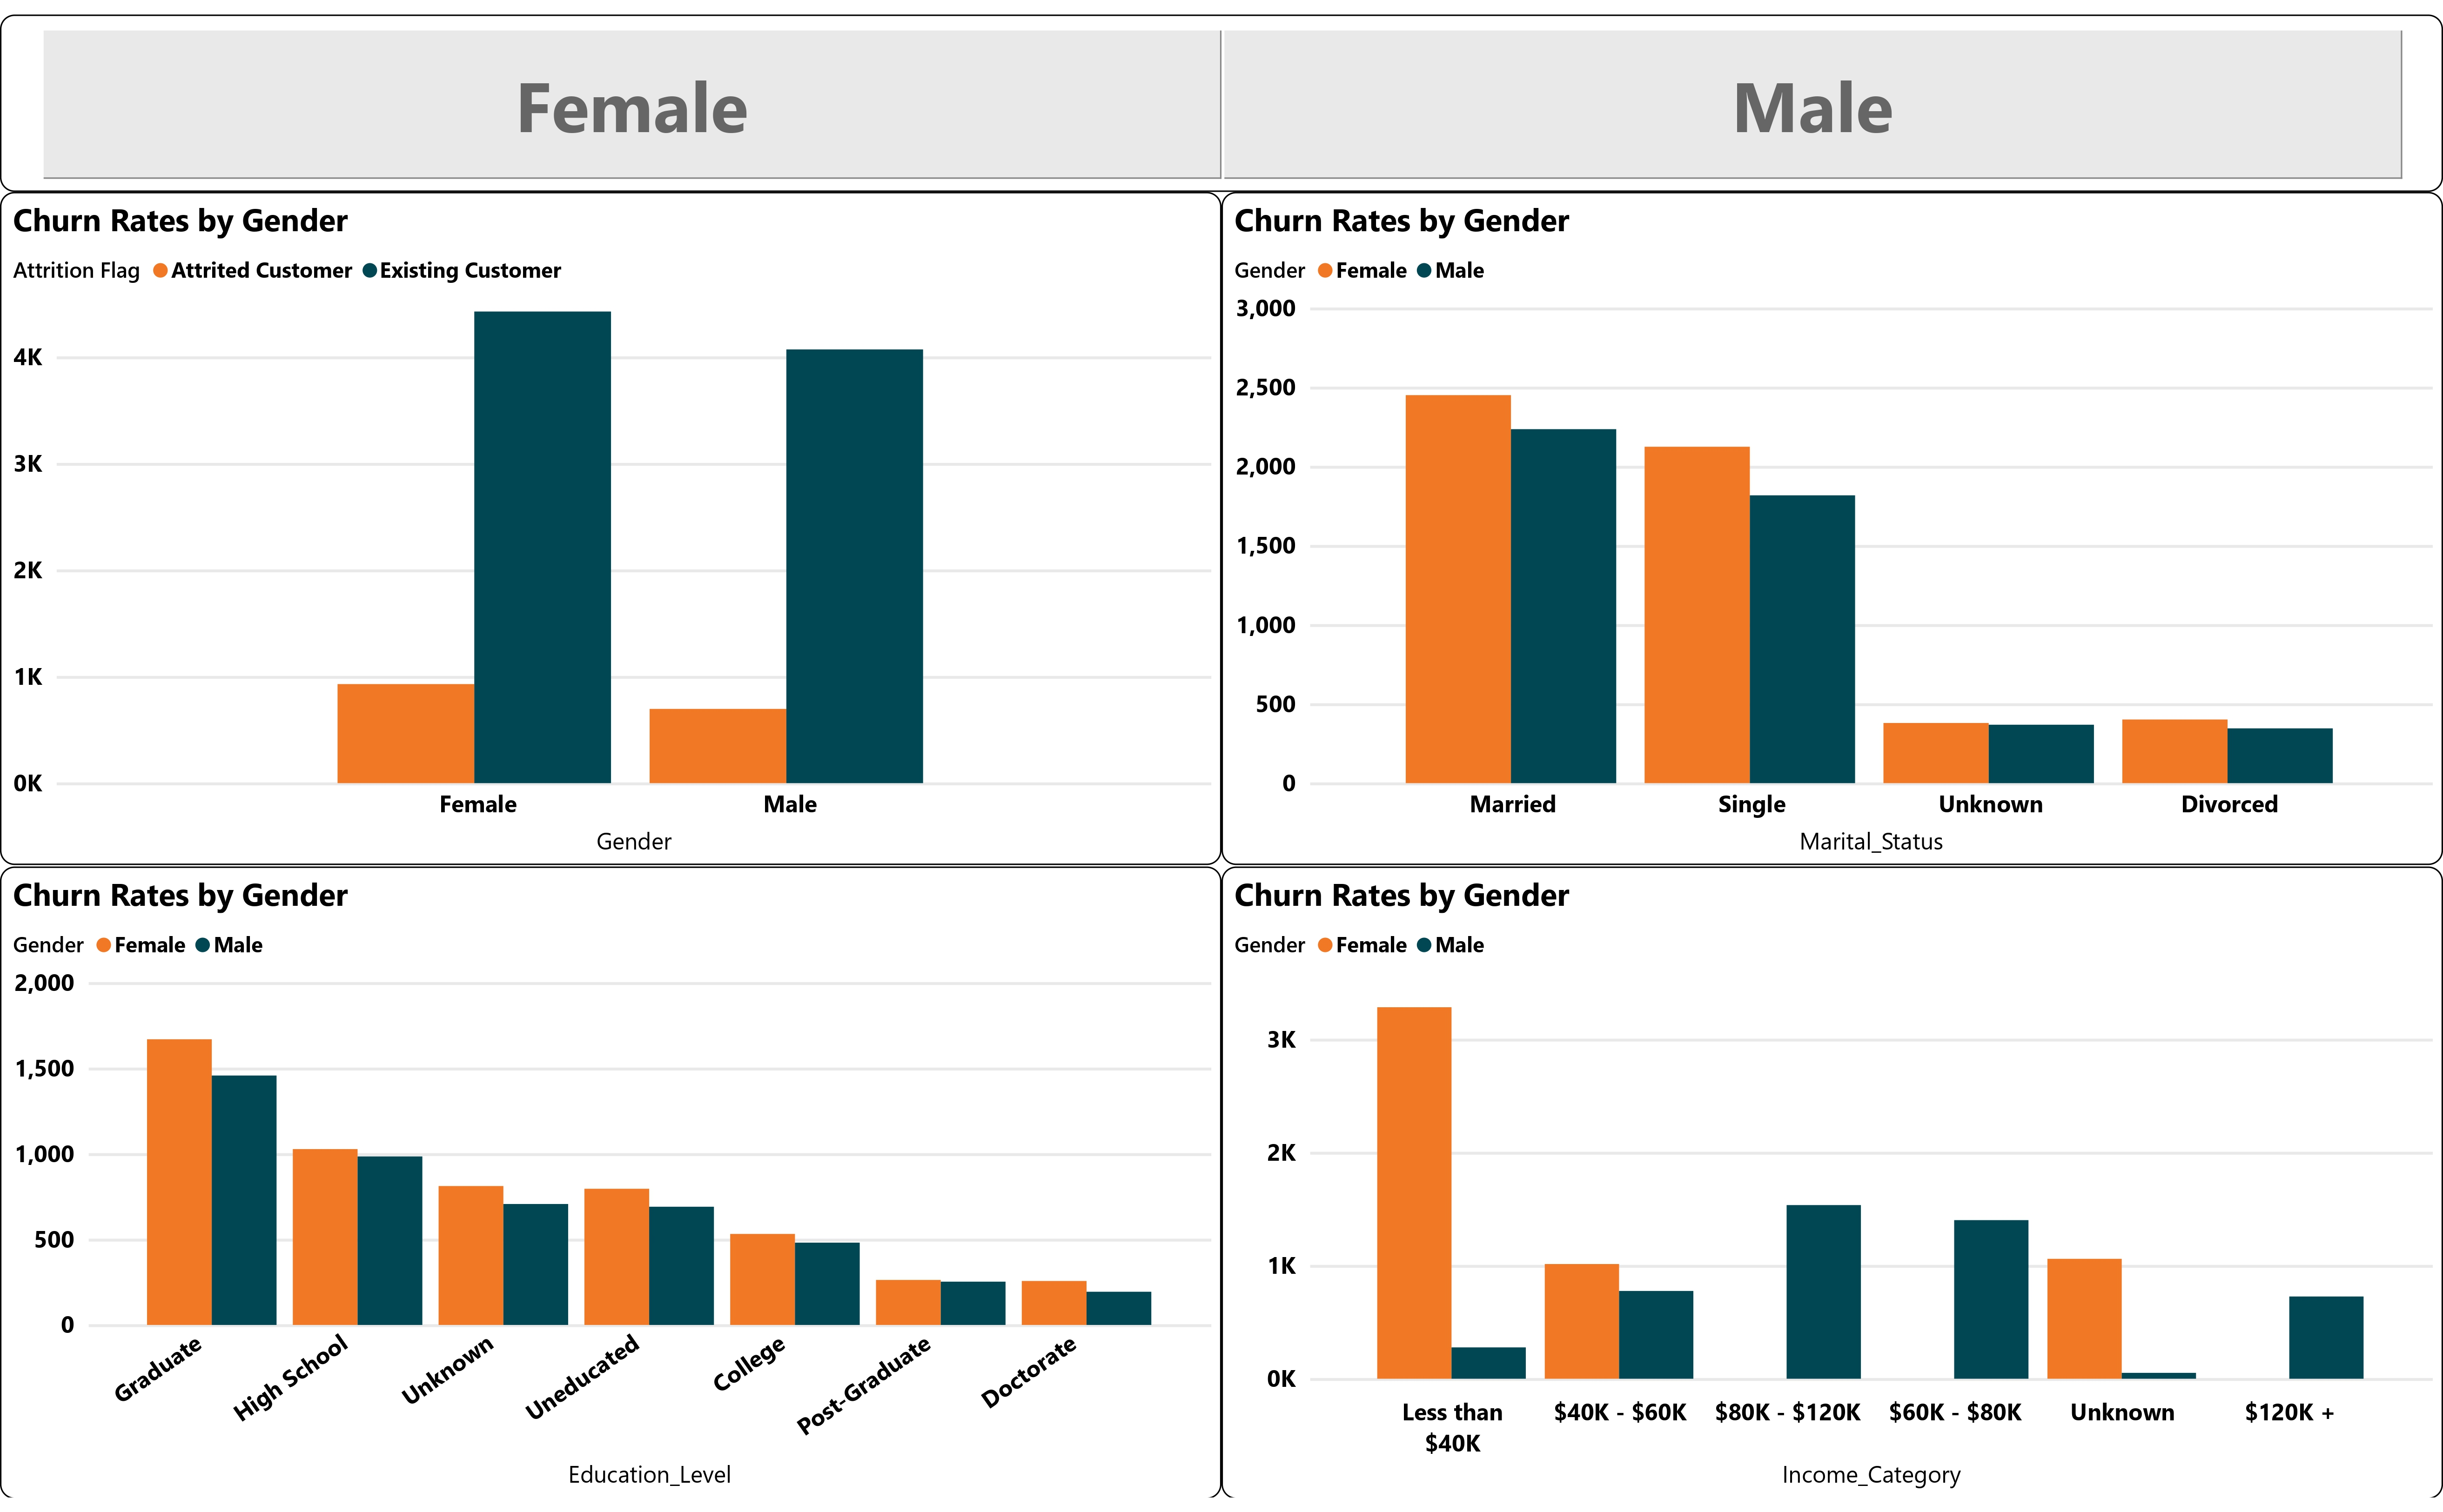

The page's visual inventory and layout, read from the dashboard file:
{"tool":"powerbi","page":{"name":"Dashboard_two","canvas":[1680,1020],"ordinal":1},"visuals":[{"type":"clusteredColumnChart","title":"Churn Rates by Gender","fields":{"Category":["BankChurners.Education_Level"],"Y":["CountNonNull(BankChurners.Gender)"],"Series":["BankChurners.Gender"]},"box":[0,585,840,435],"z":0},{"type":"clusteredColumnChart","title":"Churn Rates by Gender","fields":{"Y":["CountNonNull(BankChurners.Gender)"],"Category":["BankChurners.Marital_Status"],"Series":["BankChurners.Gender"]},"box":[840,121.7,840,463.3],"z":1000},{"type":"clusteredColumnChart","title":"Churn Rates by Gender","fields":{"Category":["BankChurners.Income_Category"],"Series":["BankChurners.Gender"],"Y":["CountNonNull(BankChurners.Gender)"]},"box":[840,585,840,435],"z":2000},{"type":"clusteredColumnChart","title":"Churn Rates by Gender","fields":{"Category":["BankChurners.Gender"],"Y":["CountNonNull(BankChurners.Attrition Flag)"],"Series":["BankChurners.Attrition Flag"]},"box":[0,121.7,840,463.3],"z":3000},{"type":"slicer","fields":{"Values":["BankChurners.Gender"]},"box":[0,0,1680,121.7],"z":4000}]}

Visuals, with their boxes in screenshot pixels (x1, y1, x2, y2), scaled from the page's 1680x1020 canvas onto the 2443x1512 screenshot:
"Churn Rates by Gender" clusteredColumnChart: [0, 867, 1221, 1512]
"Churn Rates by Gender" clusteredColumnChart: [1221, 181, 2443, 867]
"Churn Rates by Gender" clusteredColumnChart: [1221, 867, 2443, 1512]
"Churn Rates by Gender" clusteredColumnChart: [0, 181, 1221, 867]
slicer - BankChurners.Gender: [0, 0, 2443, 181]
